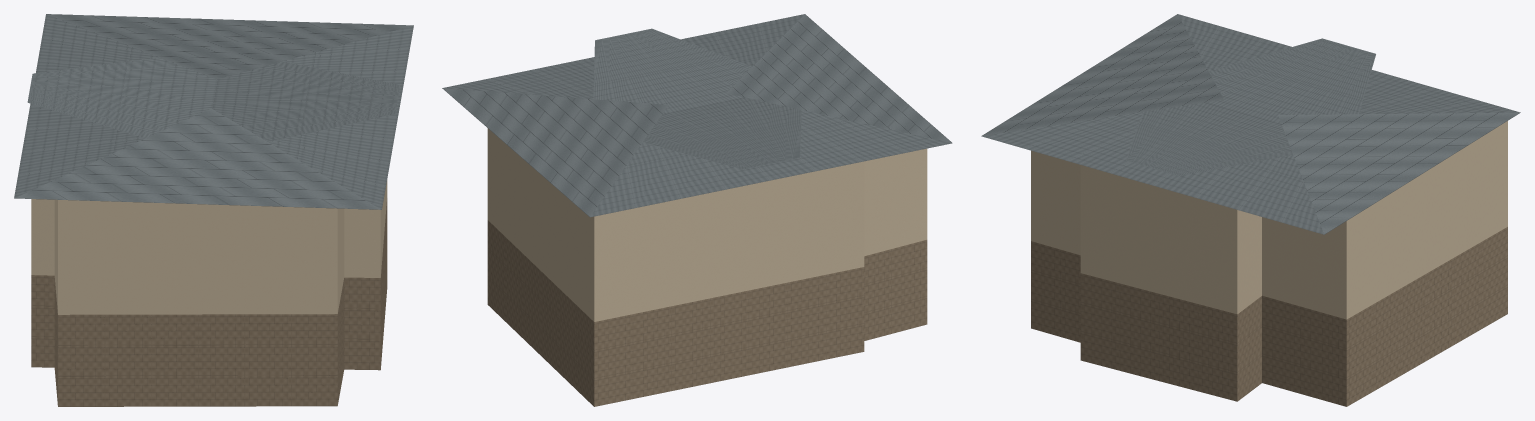
Rendered from bld_c2_-8_600.gltf.
3 renders of one model, left to right at view 1: azimuth 30°, elevation 25°; view 2: azimuth 150°, elevation 25°; view 3: azimuth 270°, elevation 25°, orthographic. The views are drawn at different scales.
Visible parts, largest first — view 1: bld_c2_-8_600; view 2: bld_c2_-8_600; view 3: bld_c2_-8_600.
Part boxes in pixels (x1,y1,x2,y2): bld_c2_-8_600: (14,14,413,406); bld_c2_-8_600: (442,14,952,406); bld_c2_-8_600: (981,14,1520,406).
Bounding box in the file's own units: 27.65 × 12.7 × 28.56.
3 materials, 3 textured.
